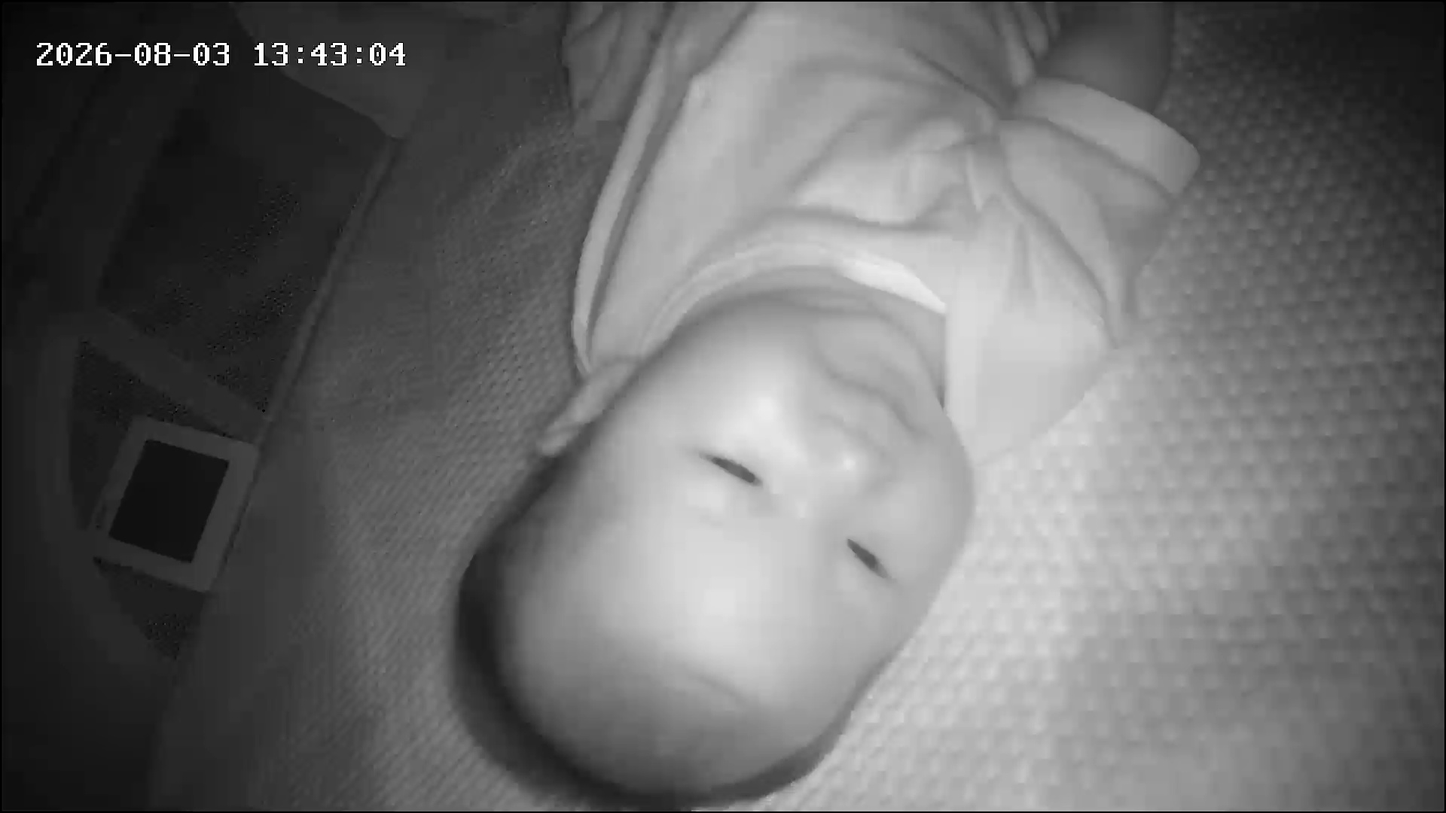baby: (416, 2, 1232, 806)
baby_face: (458, 280, 987, 806)
